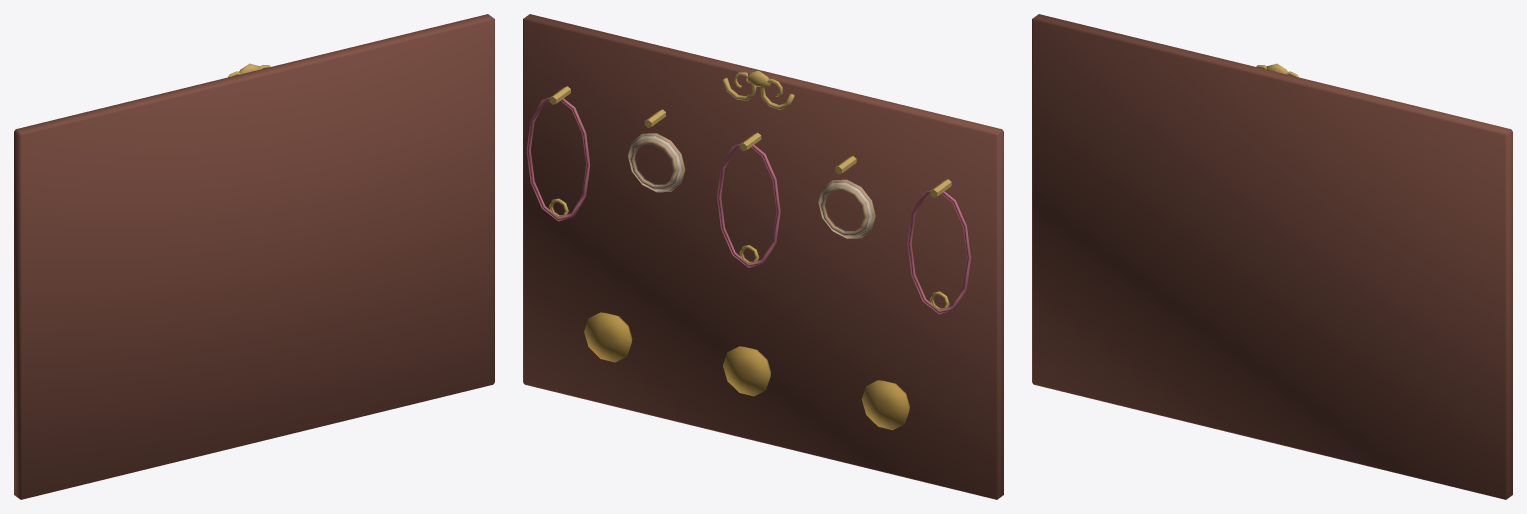
Rendered from tack_wall.glb.
3 renders of one model, left to right at view 1: azimuth 30°, elevation 25°; view 2: azimuth 150°, elevation 25°; view 3: azimuth 330°, elevation 25°, orthographic.
Visible parts, largest first — view 1: tack_wall; view 2: tack_wall; view 3: tack_wall.
Boxes of the visible parts, box(x1,y1,x2,y2) form: tack_wall: box(14, 14, 494, 499); tack_wall: box(523, 14, 1003, 499); tack_wall: box(1032, 14, 1512, 499).
Size of what is drawn, in the model's own units: 2.4 by 1.8 by 0.2.
